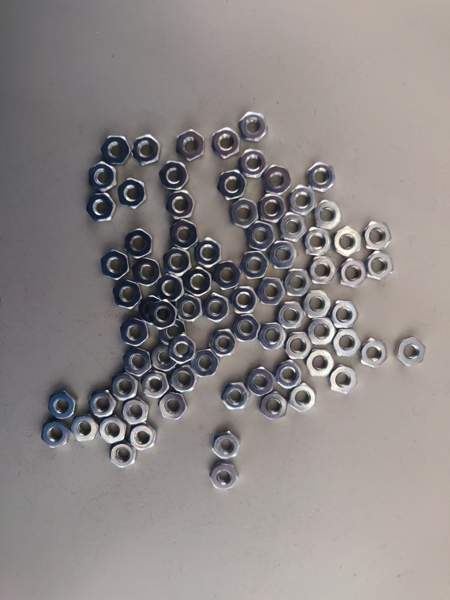nut: (237, 110, 270, 144), (161, 246, 193, 278), (99, 135, 131, 166), (159, 159, 190, 191), (168, 218, 199, 250), (176, 129, 206, 162), (263, 163, 293, 196), (237, 148, 268, 179), (229, 198, 260, 229), (364, 250, 395, 281), (307, 255, 338, 286), (88, 161, 118, 193), (257, 192, 287, 224), (247, 220, 277, 252), (125, 228, 155, 260), (306, 161, 336, 193), (278, 211, 308, 243), (395, 337, 427, 367), (288, 184, 317, 217), (211, 127, 241, 158), (118, 178, 148, 209), (86, 193, 117, 223), (100, 250, 131, 280), (239, 251, 270, 281), (269, 240, 299, 271), (256, 276, 286, 307), (362, 221, 392, 252), (301, 290, 332, 320), (330, 299, 360, 330), (133, 134, 162, 166), (131, 256, 163, 285), (168, 334, 197, 366), (246, 365, 275, 397), (217, 170, 247, 200), (183, 267, 213, 297), (120, 317, 150, 347), (123, 347, 153, 377), (221, 381, 251, 411), (303, 226, 333, 256), (329, 365, 359, 395), (112, 281, 143, 310), (258, 322, 287, 353), (274, 359, 303, 390), (333, 226, 362, 257), (338, 258, 367, 289), (166, 191, 196, 220), (194, 237, 223, 267), (202, 293, 231, 323), (213, 260, 242, 290), (232, 313, 261, 343), (209, 328, 238, 358), (140, 370, 170, 399), (88, 389, 117, 419), (212, 430, 241, 460), (150, 342, 178, 373), (138, 296, 167, 325), (230, 286, 259, 315), (169, 364, 198, 393), (109, 372, 138, 401), (120, 396, 149, 425), (210, 461, 239, 490), (47, 391, 76, 420), (283, 268, 312, 297), (158, 392, 188, 420), (259, 392, 289, 420), (40, 421, 70, 449), (314, 200, 342, 230), (290, 382, 318, 412), (306, 318, 337, 345), (149, 300, 178, 328), (155, 274, 184, 302), (191, 349, 220, 377), (128, 422, 157, 450), (99, 415, 127, 444), (70, 414, 99, 442), (277, 301, 306, 329), (284, 332, 312, 361), (360, 339, 389, 367), (305, 349, 334, 377), (333, 328, 361, 356), (175, 294, 202, 323), (158, 318, 187, 345), (109, 441, 137, 468)
